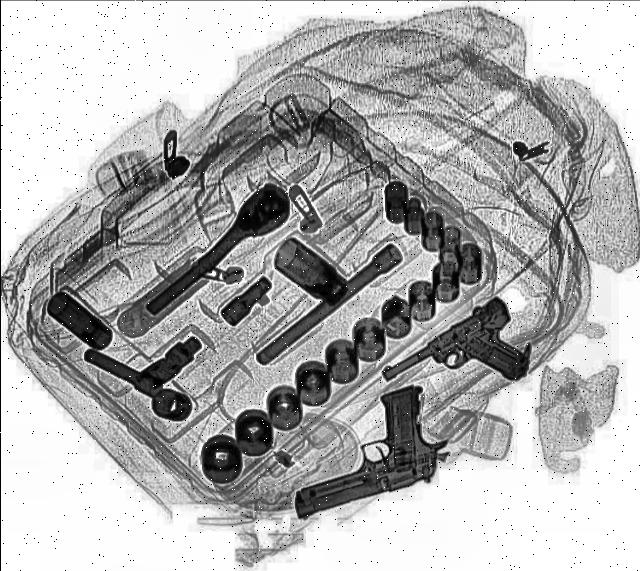Gun: (255, 380, 460, 520), (372, 293, 552, 430)
